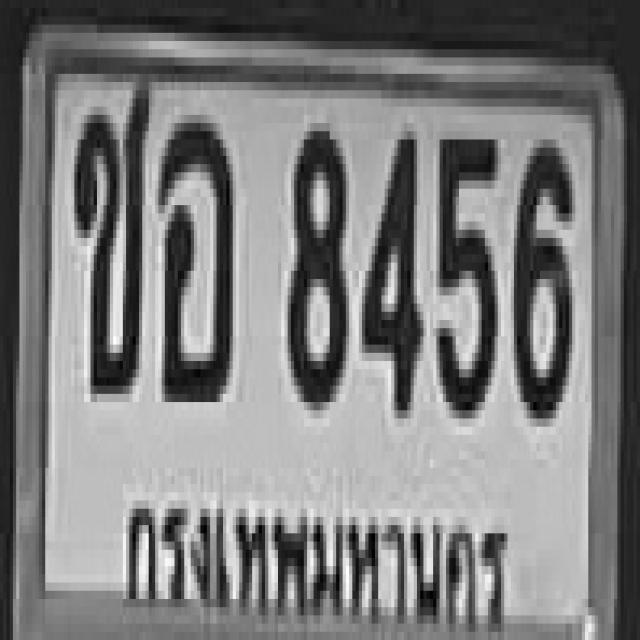19ChorChang: (71, 78, 149, 390)
4: (357, 123, 419, 410)
5: (433, 132, 495, 410)
52OrAng: (157, 115, 231, 394)
6: (511, 132, 569, 410)
8: (284, 123, 342, 402)
Bangkok: (117, 465, 515, 640)
